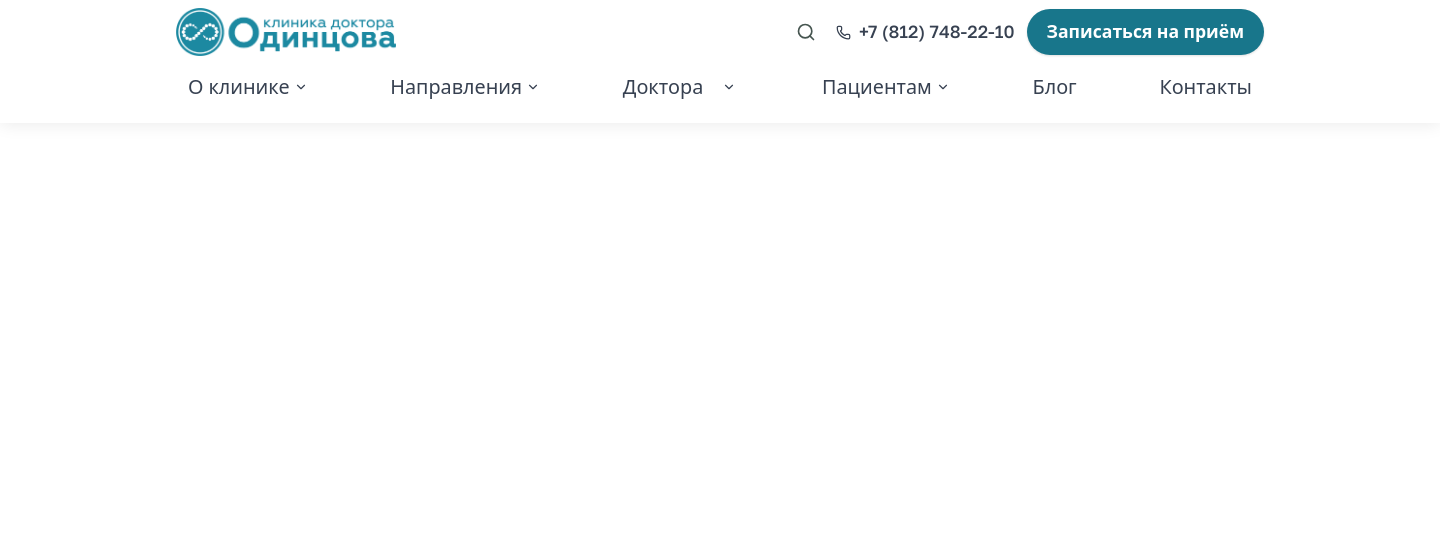
Header › opens Пациентам dropdown showing second-opinion link
Focus the button "Пациентам". click: [886, 87]
box: [810,64,962,111]
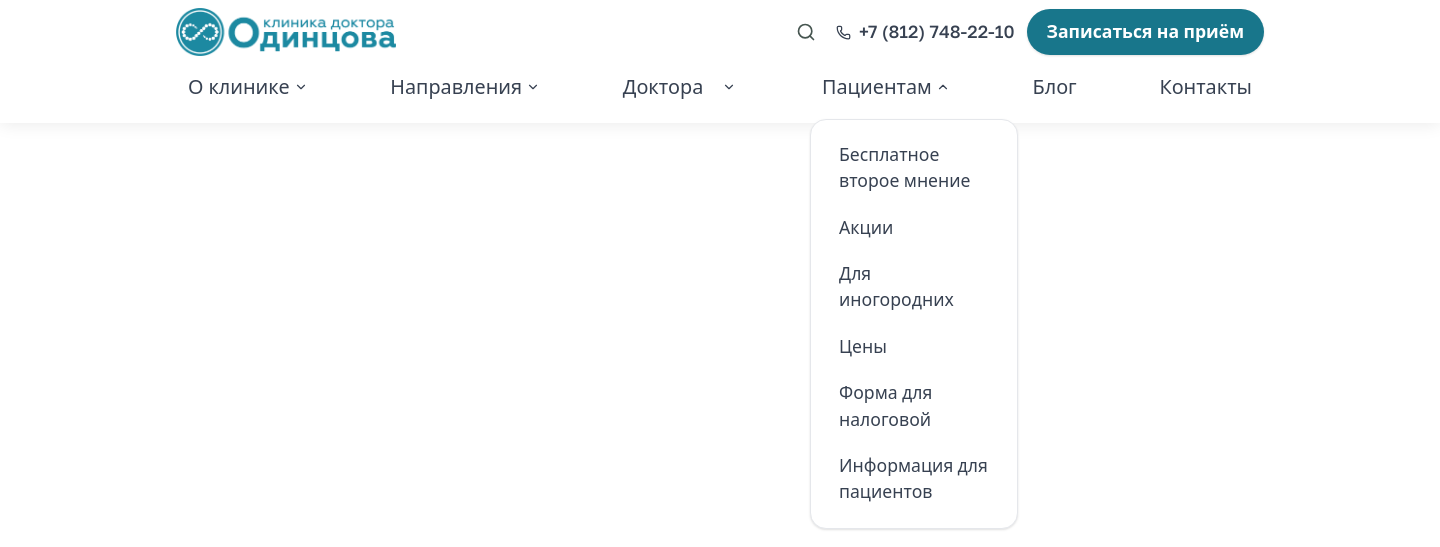
Now the menu item "Бесплатное второе мнение" is shown, box [839,144,970,191]
